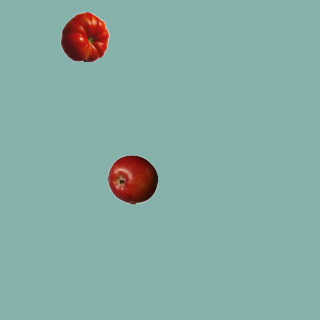Apple Braeburn: (107, 154, 157, 204)
Tomato 3: (59, 11, 109, 61)
